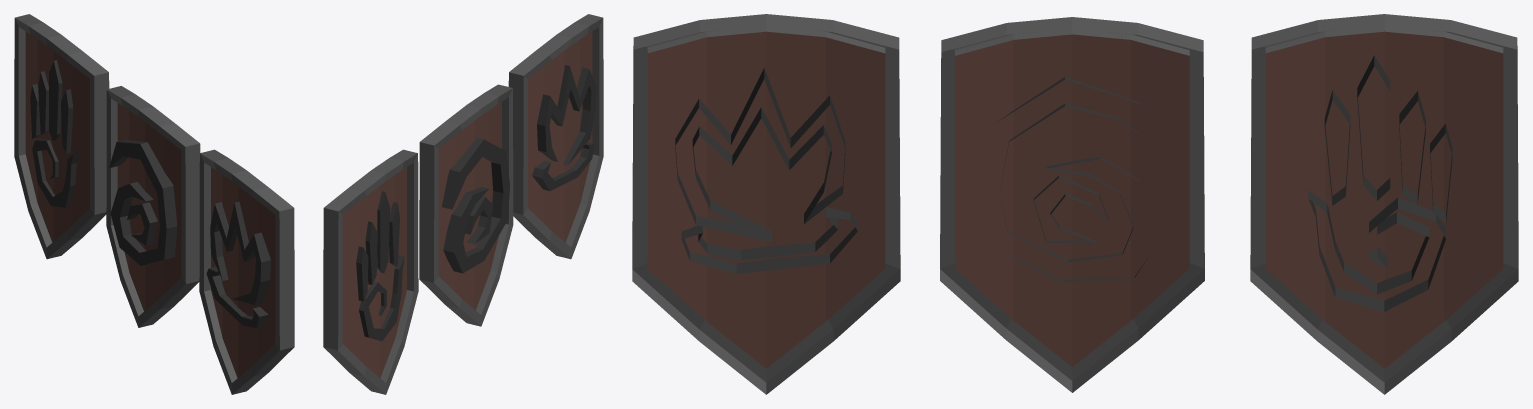
File: Faction shields.fbx
3 renders of one model, left to right at view 1: azimuth 30°, elevation 25°; view 2: azimuth 150°, elevation 25°; view 3: azimuth 270°, elevation 25°, orthographic. The views are drawn at different scales.
Parts seen in each view (by area): view 1: Plane.002, Cube.029, Plane; view 2: Cube.029, Plane, Plane.002; view 3: Cube.029, Plane.002, Plane.
Part boxes in pixels (box(x1,y1,x2,y2)): Plane.002: box(199, 149, 294, 394); Cube.029: box(14, 14, 109, 259); Plane: box(106, 86, 200, 327); Cube.029: box(323, 149, 418, 394); Plane: box(419, 84, 513, 326); Plane.002: box(508, 14, 603, 259); Cube.029: box(1250, 14, 1518, 394); Plane.002: box(632, 14, 900, 394); Plane: box(940, 17, 1204, 392).
Bounding box in the file's own units: 0.261 × 2.23 × 4.86.
